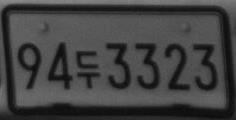2: (163, 42, 191, 91)
3: (134, 42, 161, 90), (105, 42, 132, 89), (193, 42, 218, 91)
4: (46, 41, 73, 90)
9: (15, 41, 42, 89)
두: (74, 50, 101, 89)
